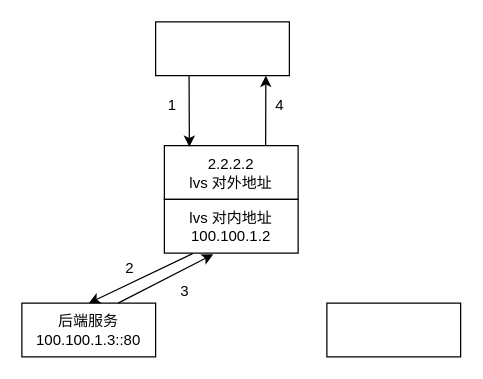
The diagram is 483 pixels wide and 379 high, and some of its shapes have lost their labels. Here are the shapes that lost their labels. From the top down, the centre of each, then its label:
At [221,48]: "客户端 1.1.1.1 1000".
At [393,329]: "后端服务 100.100.1.4:80".
